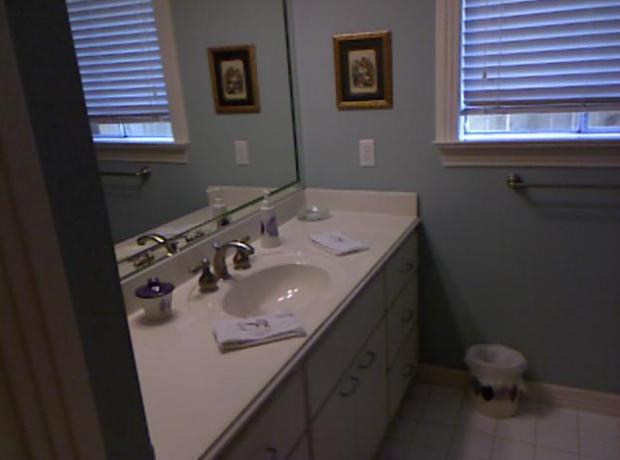Lavamanos: (188, 234, 337, 332)
